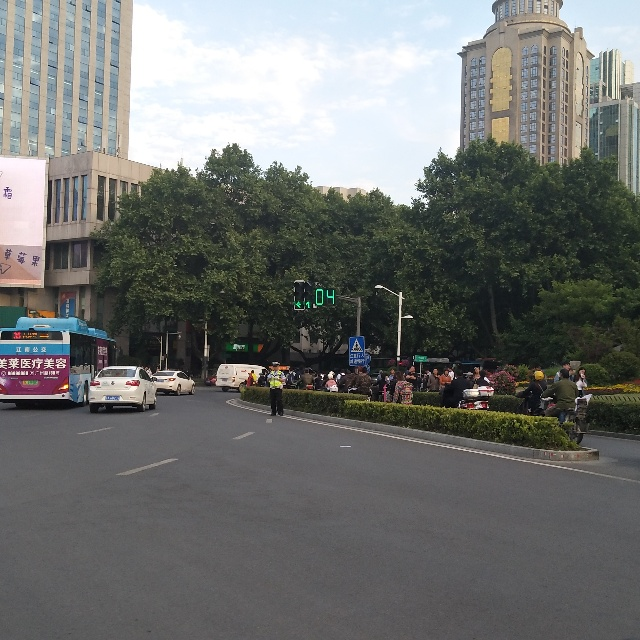crosswalk: (344, 333, 363, 356)
